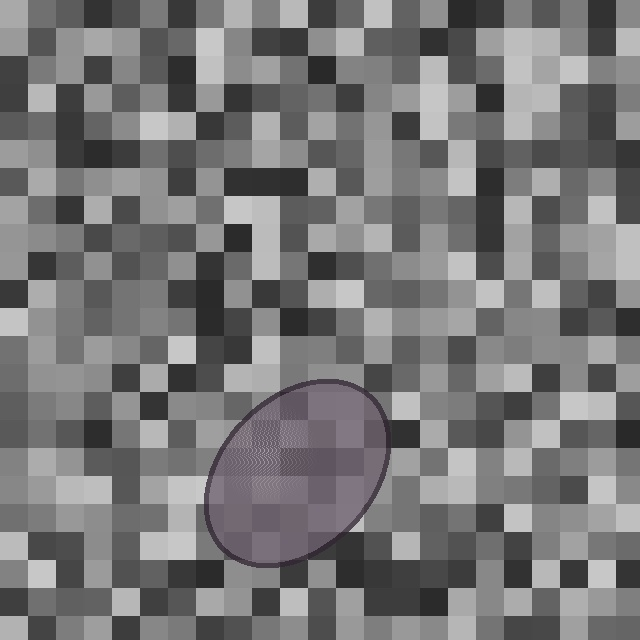lens: (206, 381, 388, 565)
